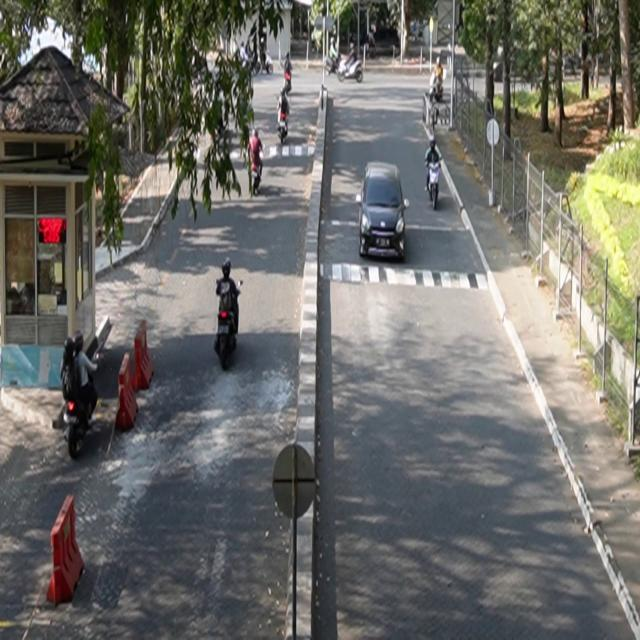car: (356, 162, 410, 262)
